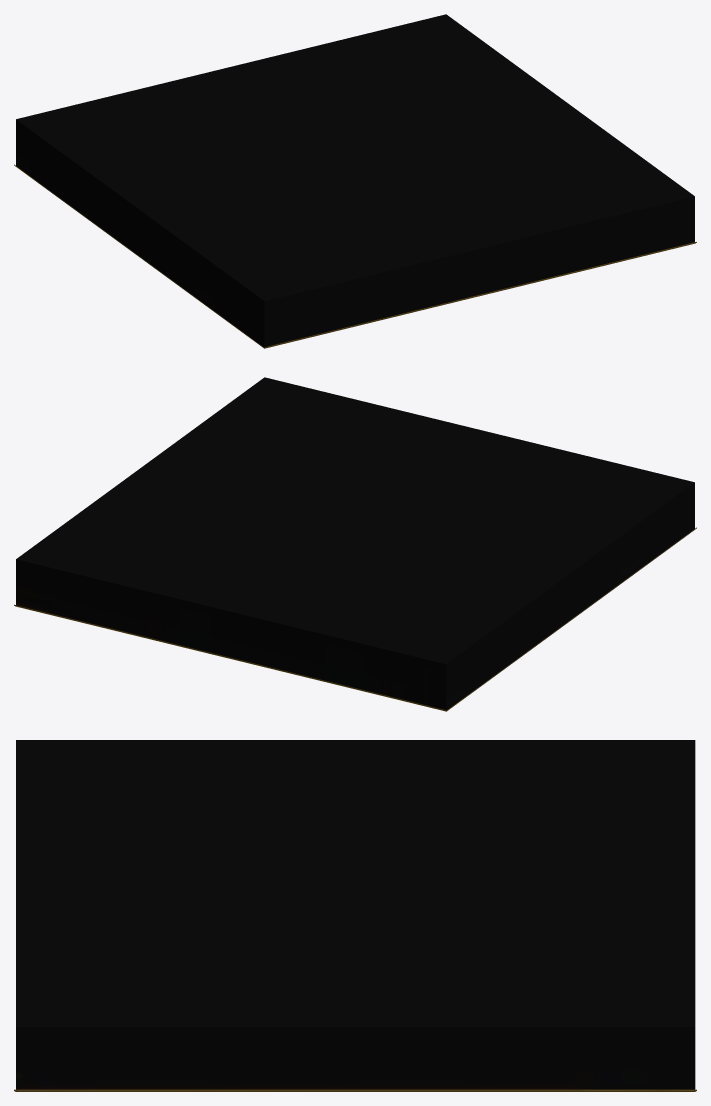
The model's file is vent.glb.
3 renders of one model, top to bottom at view 1: azimuth 30°, elevation 25°; view 2: azimuth 150°, elevation 25°; view 3: azimuth 270°, elevation 25°, orthographic. The views are drawn at different scales.
Visible parts, largest first — view 1: body; view 2: body; view 3: body.
Boxes of the visible parts, x1=… form: body: x1=14, y1=14, x2=696, y2=348; body: x1=14, y1=377, x2=696, y2=711; body: x1=14, y1=740, x2=696, y2=1091.
Bounding box in the file's own units: 0.7268 × 0.0759 × 0.7268.
1 material, 1 textured.
